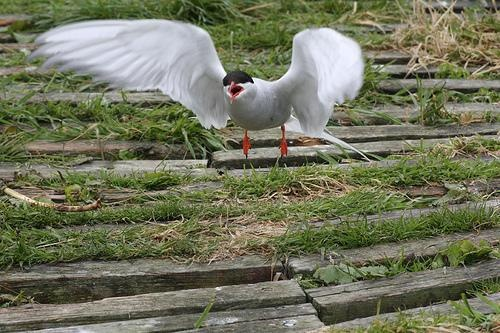bird: (22, 6, 370, 161)
